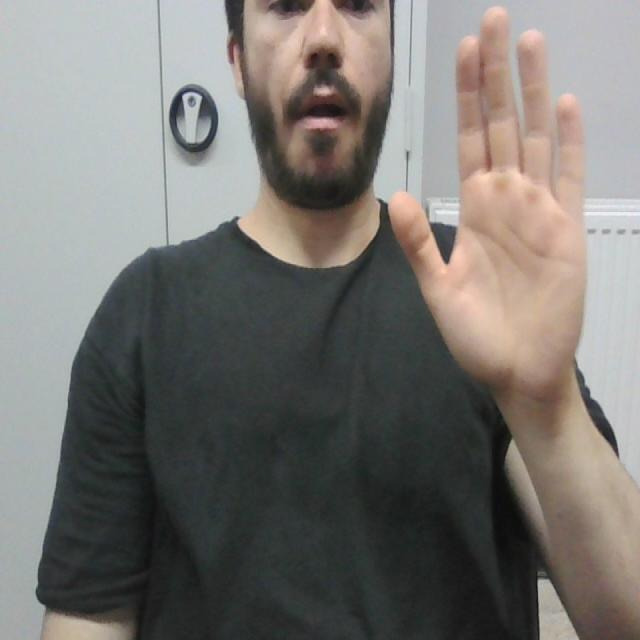Dur: (388, 0, 599, 408)
